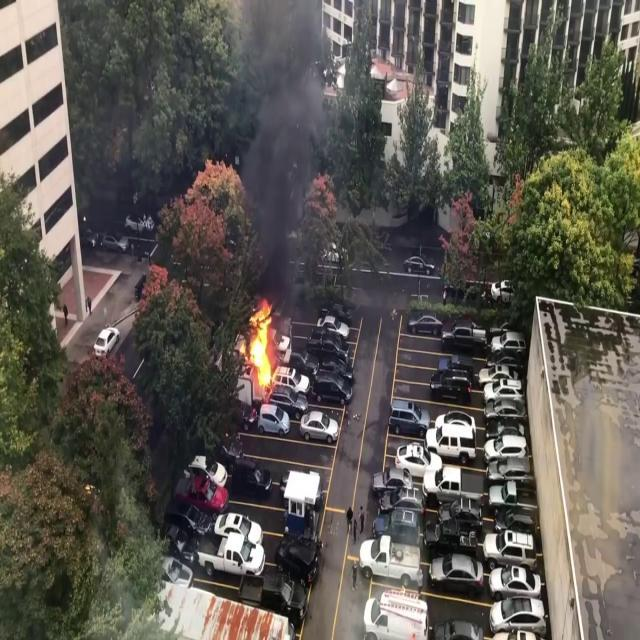Fire: (240, 295, 280, 389)
Smoke: (224, 0, 346, 308)
